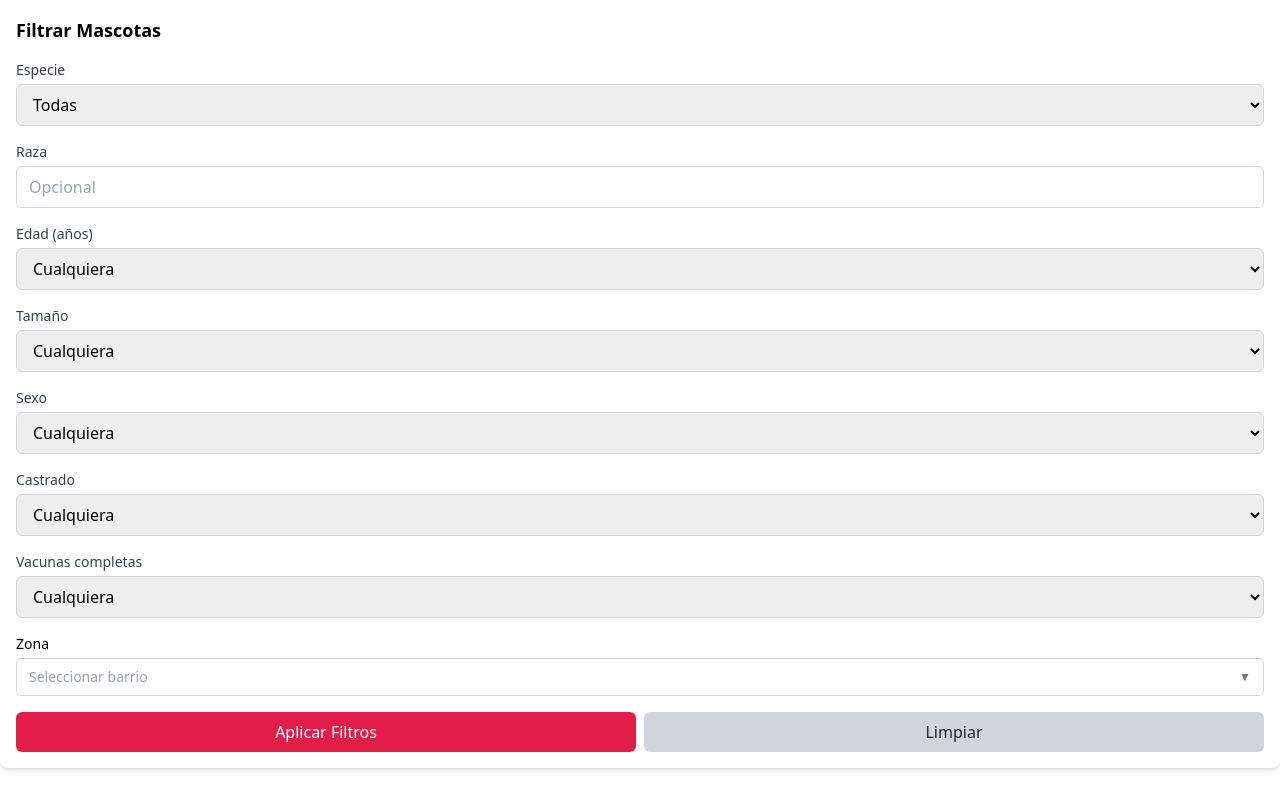
Test: FilterPanel › clears all filters when clear button is clicked
The width and height of the screenshot is (1280, 800).
Select "Perro" in the dropdown named "especie" at {"x": 640, "y": 105}, box top-left (16, 84), bottom-right (1264, 126)
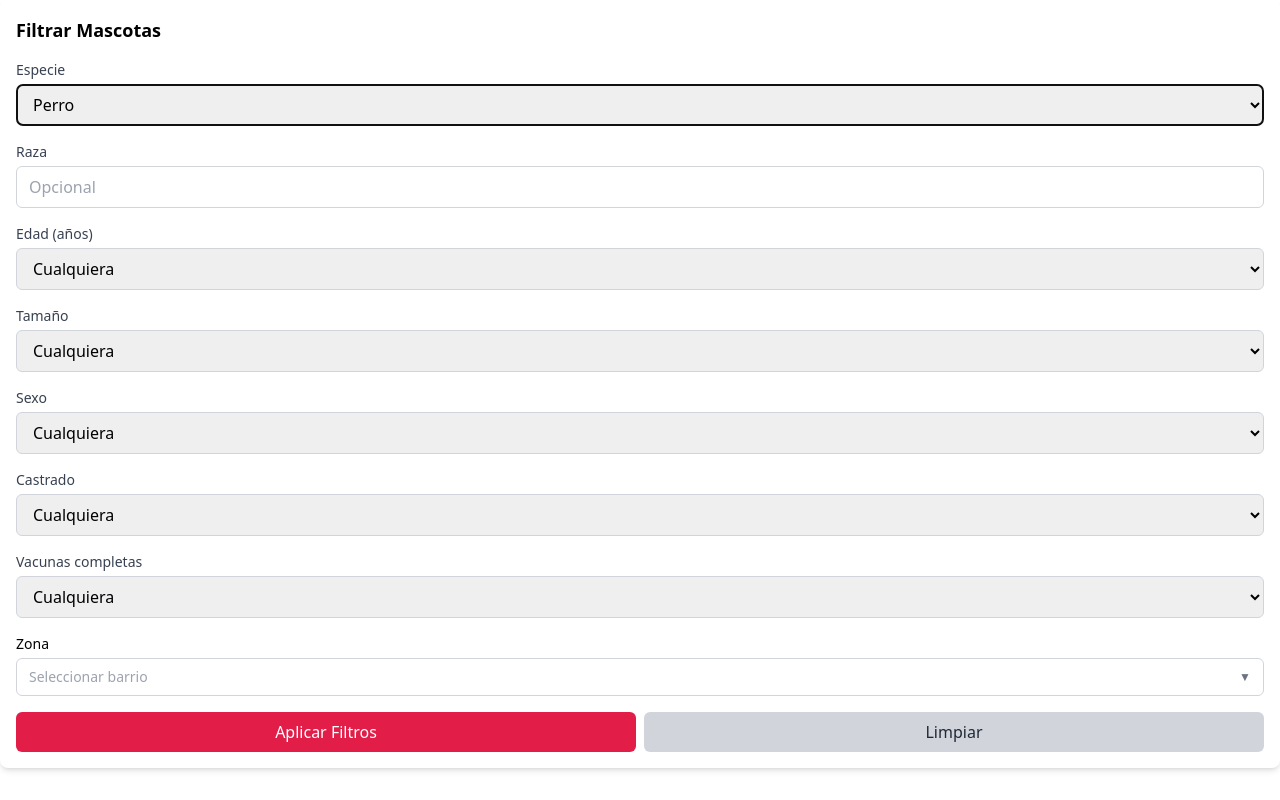
Type "Labrador" into the field named "raza" at {"x": 640, "y": 187}, box top-left (16, 166), bottom-right (1264, 208)
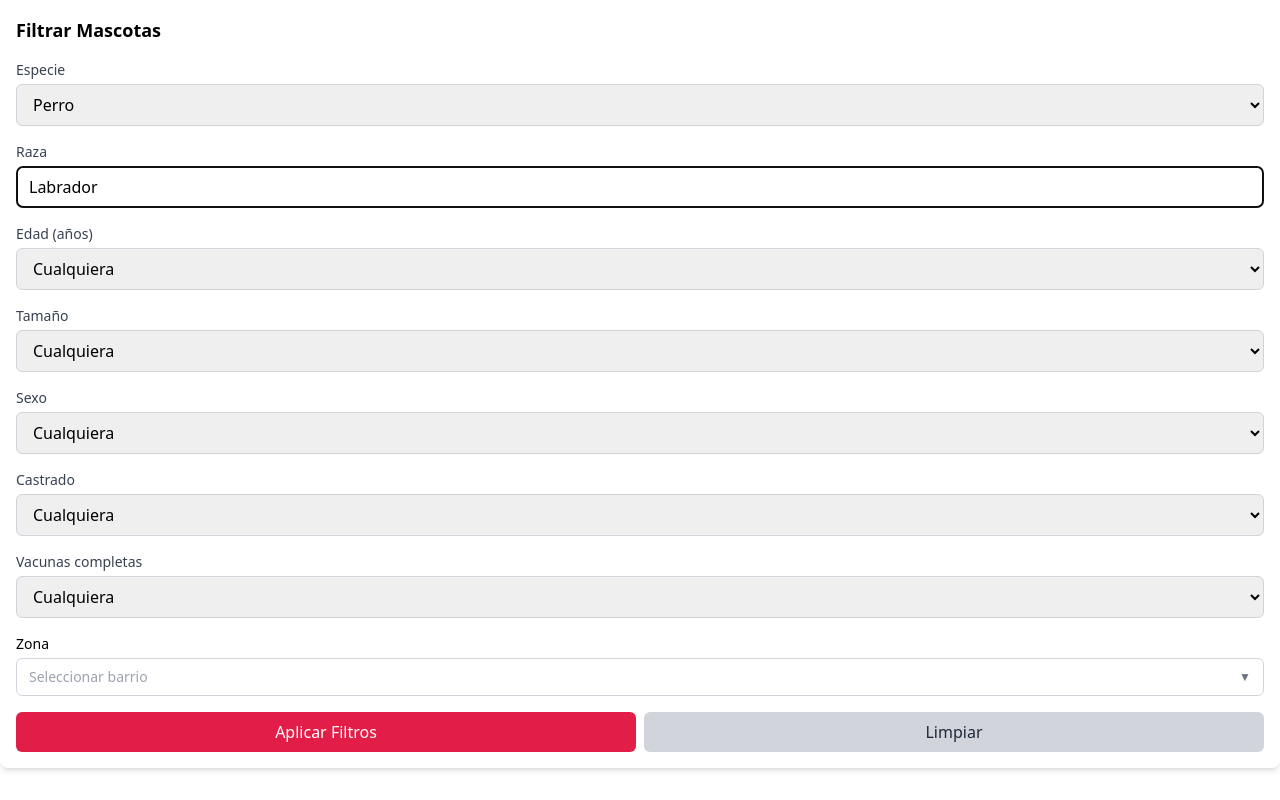
Select "2-3 años" in the dropdown named "edad" at {"x": 640, "y": 269}, box top-left (16, 248), bottom-right (1264, 290)
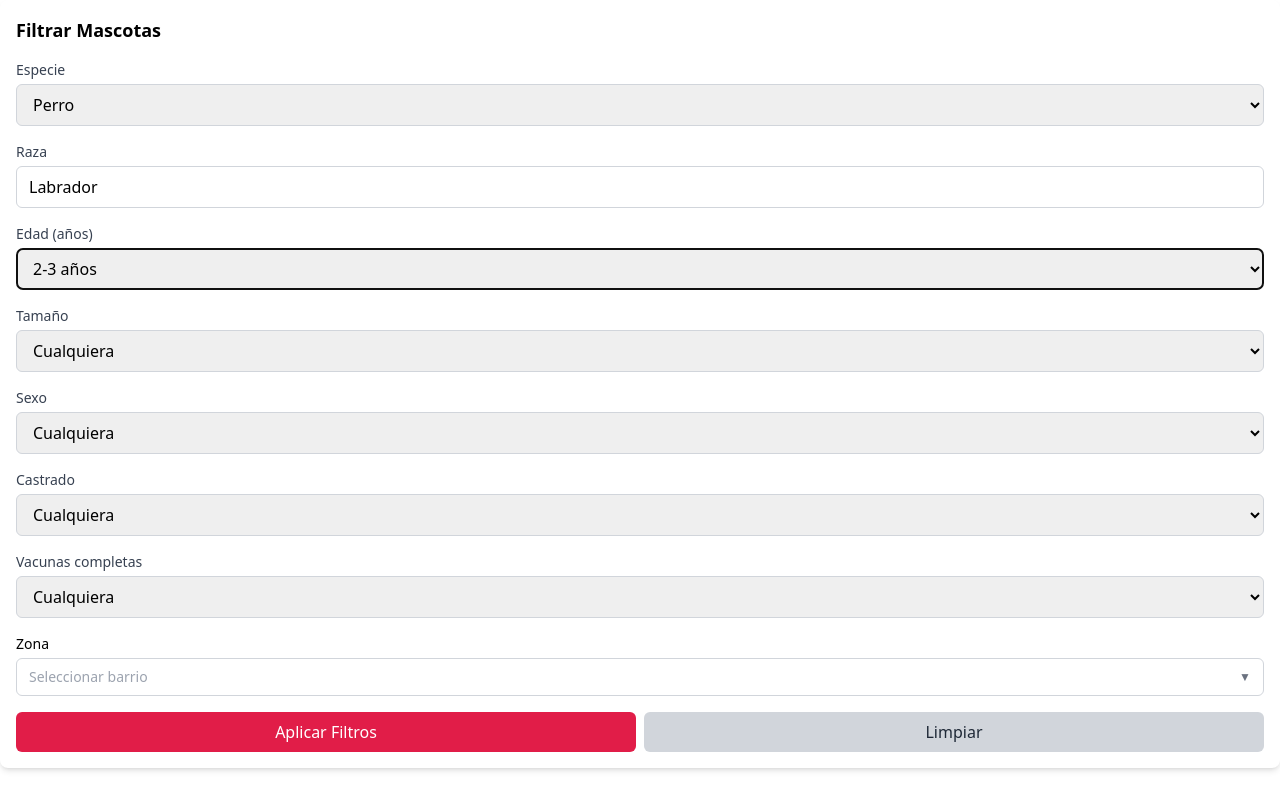
Click the button "Limpiar" at {"x": 954, "y": 732}, box top-left (644, 712), bottom-right (1264, 752)
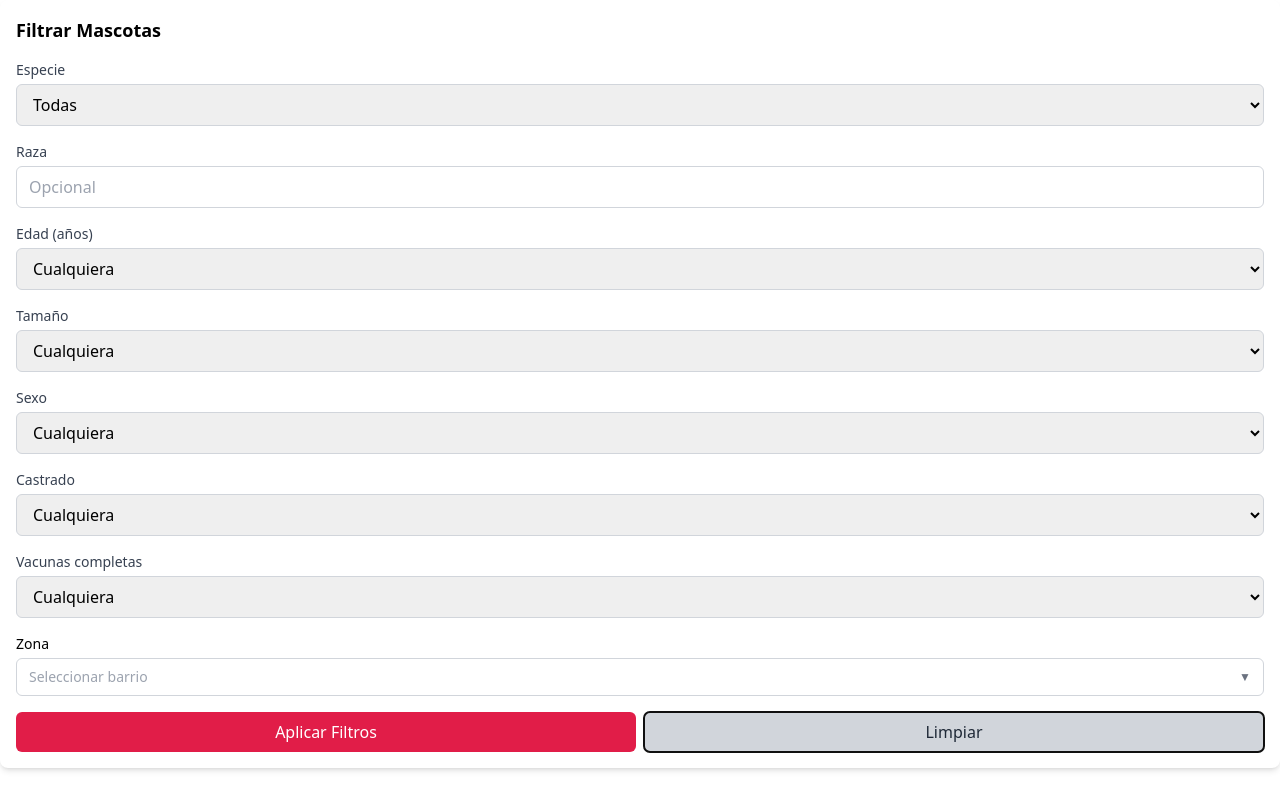
Expected: the field named "raza" is empty, top-left (16, 166), bottom-right (1264, 208)
